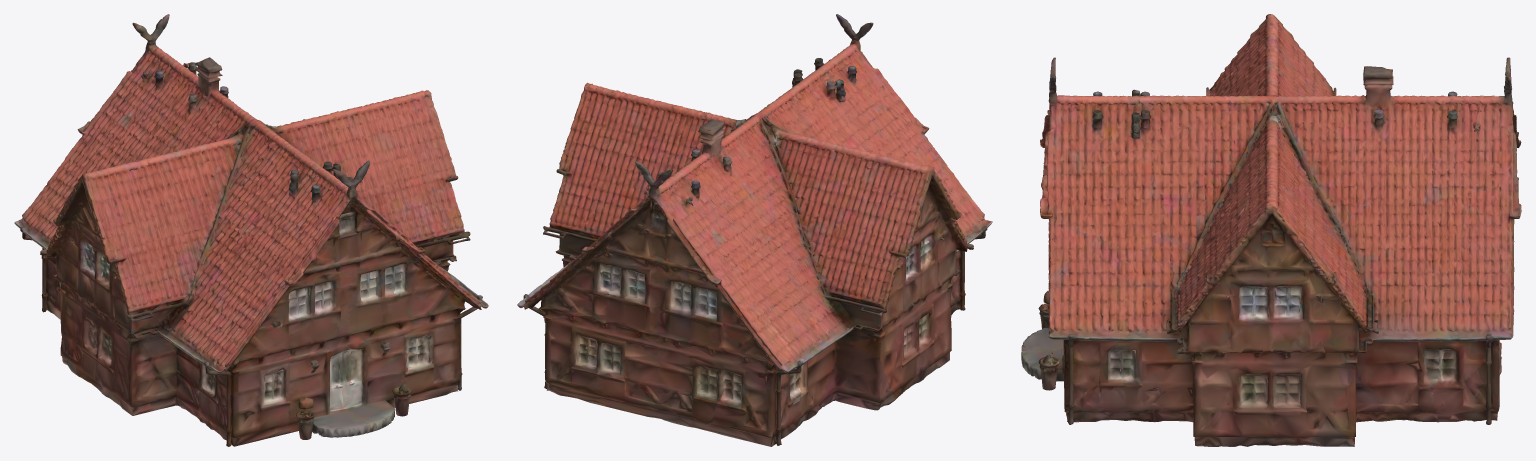
File: building13.glb
3 renders of one model, left to right at view 1: azimuth 30°, elevation 25°; view 2: azimuth 150°, elevation 25°; view 3: azimuth 270°, elevation 25°, orthographic. The views are drawn at different scales.
Bounding box in the file's own units: 1.76 × 1.24 × 1.92.
Materials: 1 (1 with a texture image).
